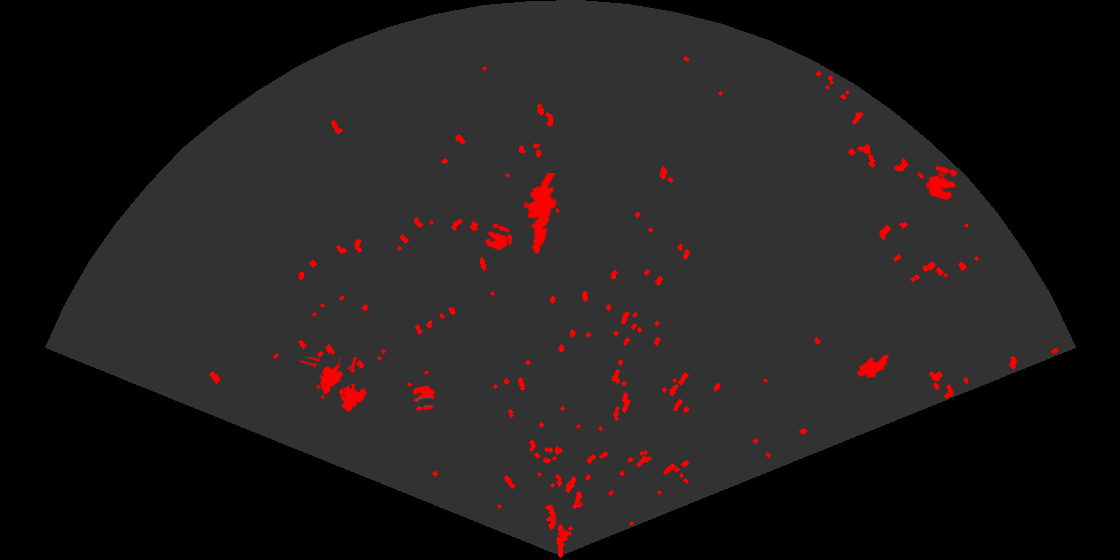AUV: (855, 353, 891, 380)
ball: (924, 164, 960, 202), (483, 222, 511, 252), (410, 384, 437, 413)
cage: (300, 357, 369, 413)
frogman: (522, 173, 558, 256)
